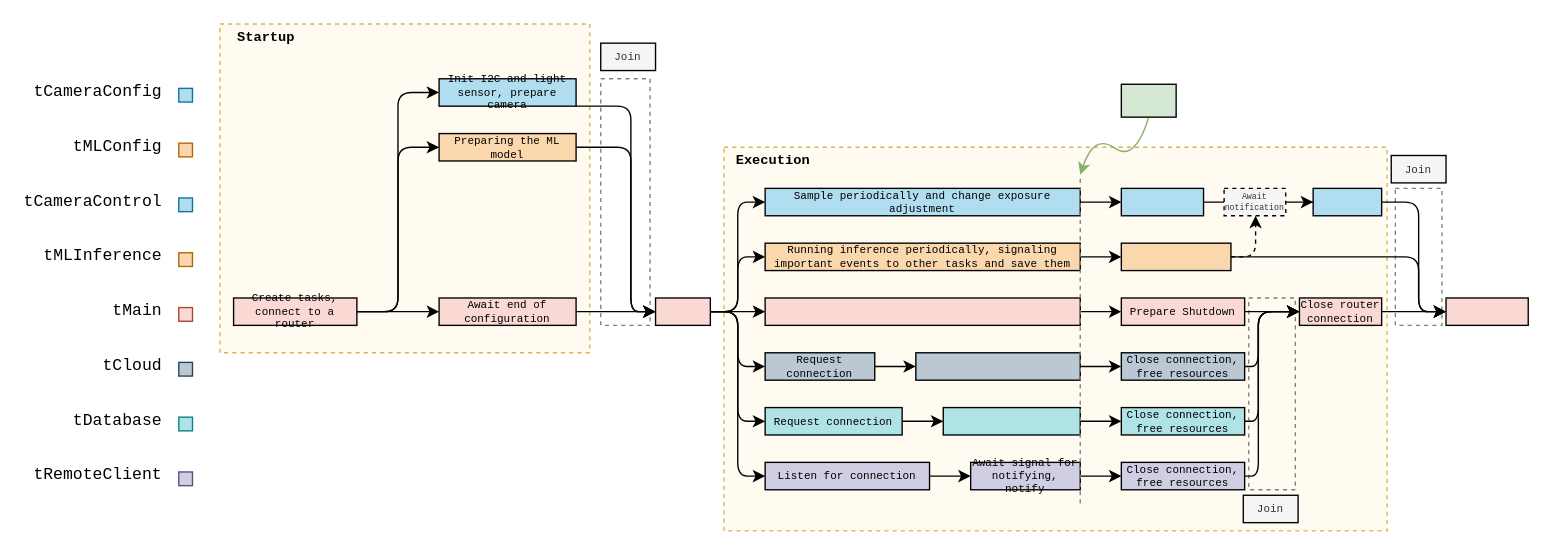
Image size: 1552x555. Some labels were removed from this diagram. The centre of each missing label's shape, as x and y in pixels:
"Await signal for updating, update" belongs at point (1011, 420).
"Await signal for uploading, upload" belongs at point (997, 365).
"Camera shutdown" belongs at point (1347, 201).
"Idling" belongs at point (922, 311).
"Shutdown" belongs at point (1486, 311).
"Shutdown signal" belongs at point (1148, 100).
"Split" belongs at point (682, 311).
"Stop inference engine" belongs at point (1175, 256).
"Turn light sensor off" belongs at point (1162, 201).
